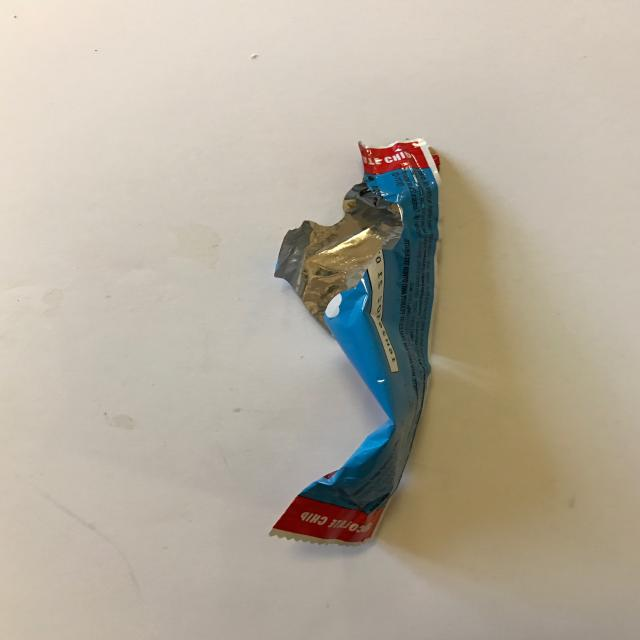trash: (268, 138, 443, 546)
